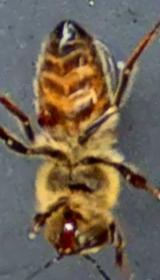varroa_mite: (34, 99, 61, 130)
